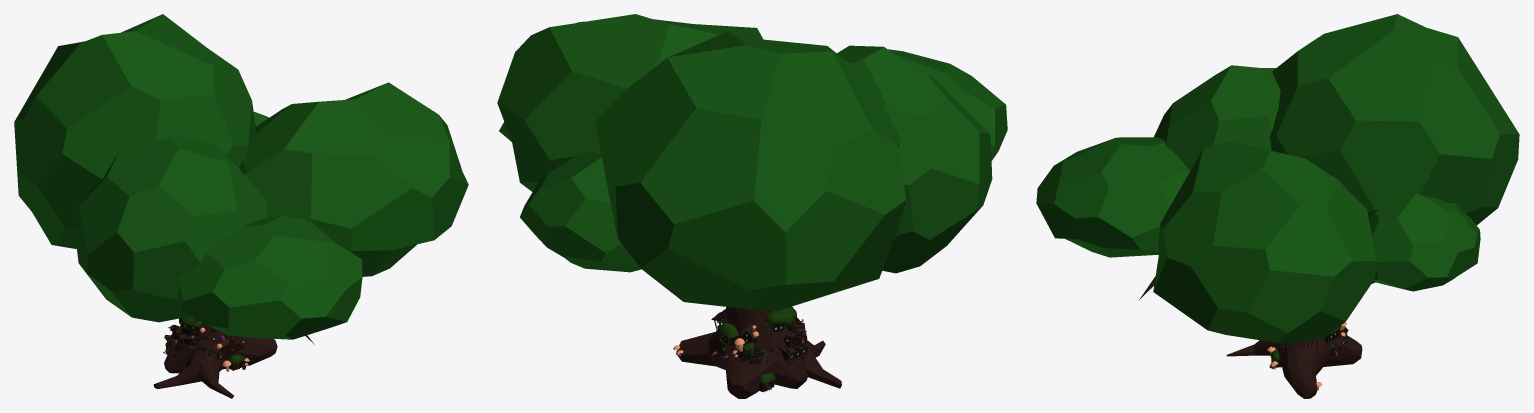
Rendered from Fairy Village - Tree.fbx.
3 renders of one model, left to right at view 1: azimuth 30°, elevation 25°; view 2: azimuth 150°, elevation 25°; view 3: azimuth 270°, elevation 25°, orthographic. The views are drawn at different scales.
Parts seen in each view (by area): view 1: Hedra003, Group34350; view 2: Hedra003, Group34350, Box054; view 3: Hedra003, Group34350.
Boxes of the visible parts, box(x1,y1,x2,y2) form: Hedra003: box(14, 14, 468, 339); Group34350: box(153, 318, 314, 398); Hedra003: box(497, 14, 1007, 310); Group34350: box(676, 307, 841, 398); Box054: box(764, 307, 796, 325); Hedra003: box(1036, 14, 1519, 342); Group34350: box(1139, 276, 1374, 398).
Bounding box in the file's own units: 29.48 × 23.78 × 32.13.
